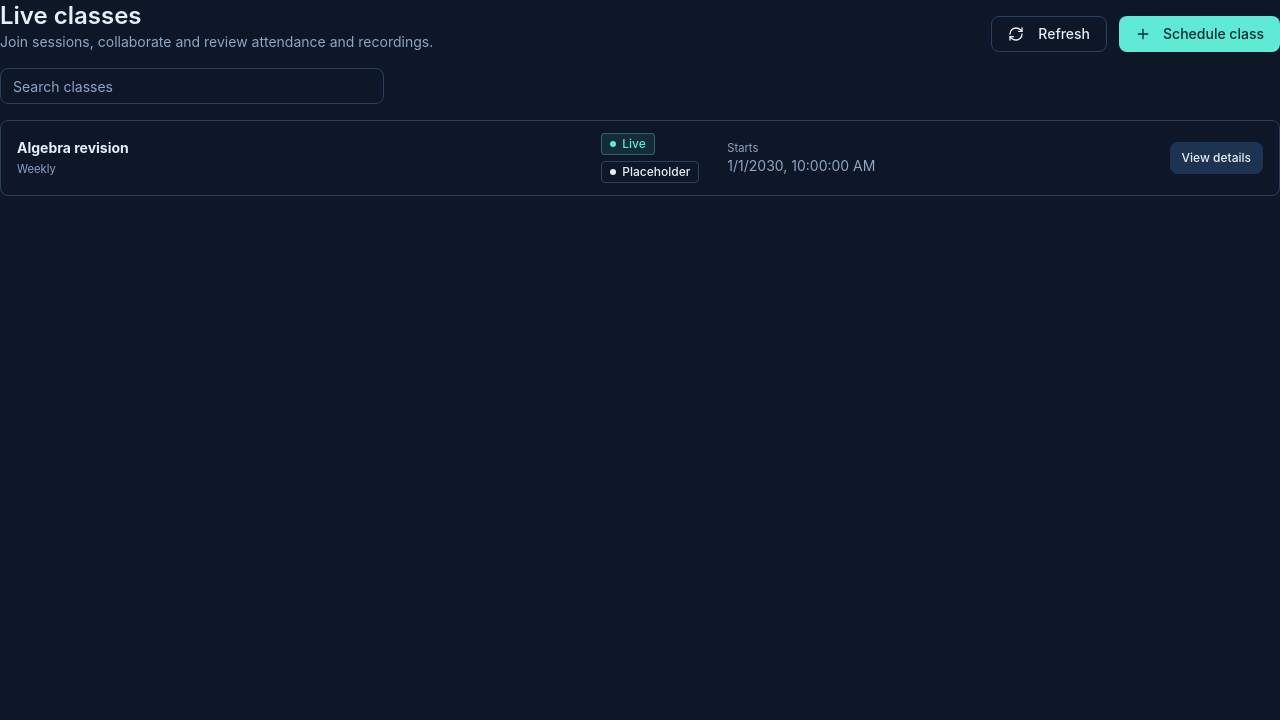
LiveClassesPage › closing a class › lets staff close a class after confirming, then shows it as ended with nothing to join
Click the button with aria-label "View details for Algebra revision" at (1216, 158), box [1170,142,1263,174]
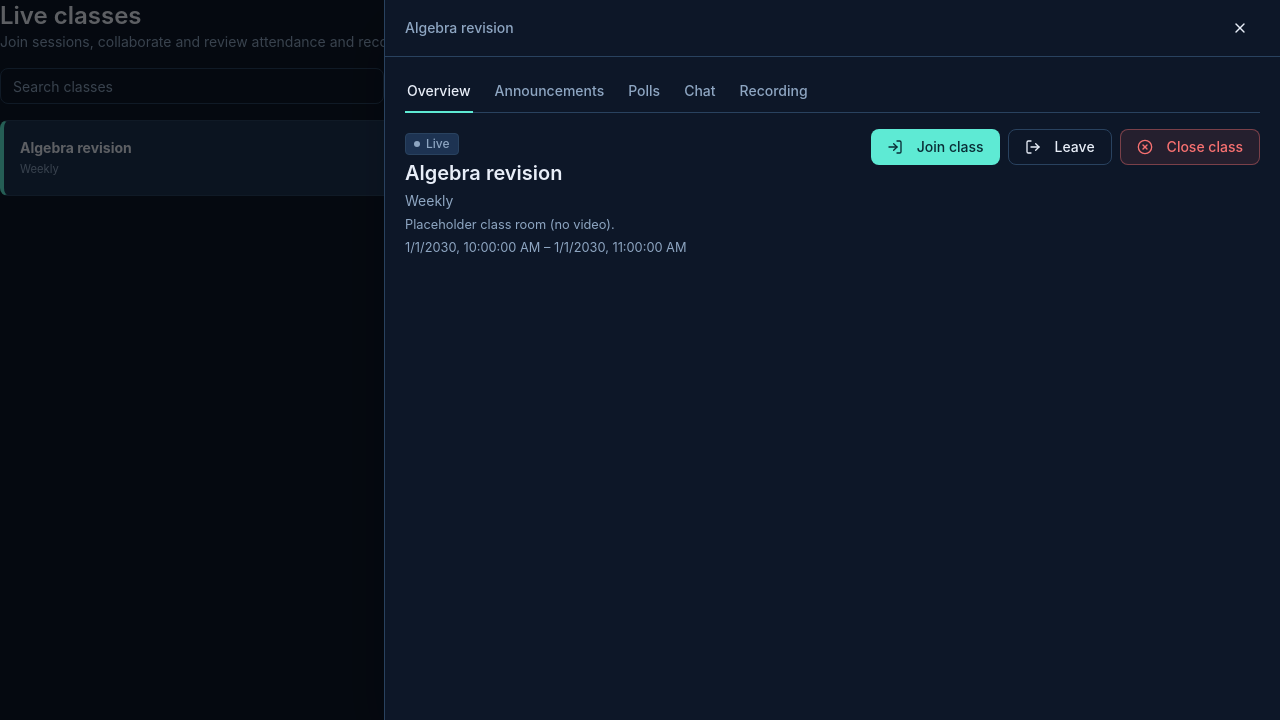
Click the button "Close class" at (1190, 147), box [1120,129,1260,165]
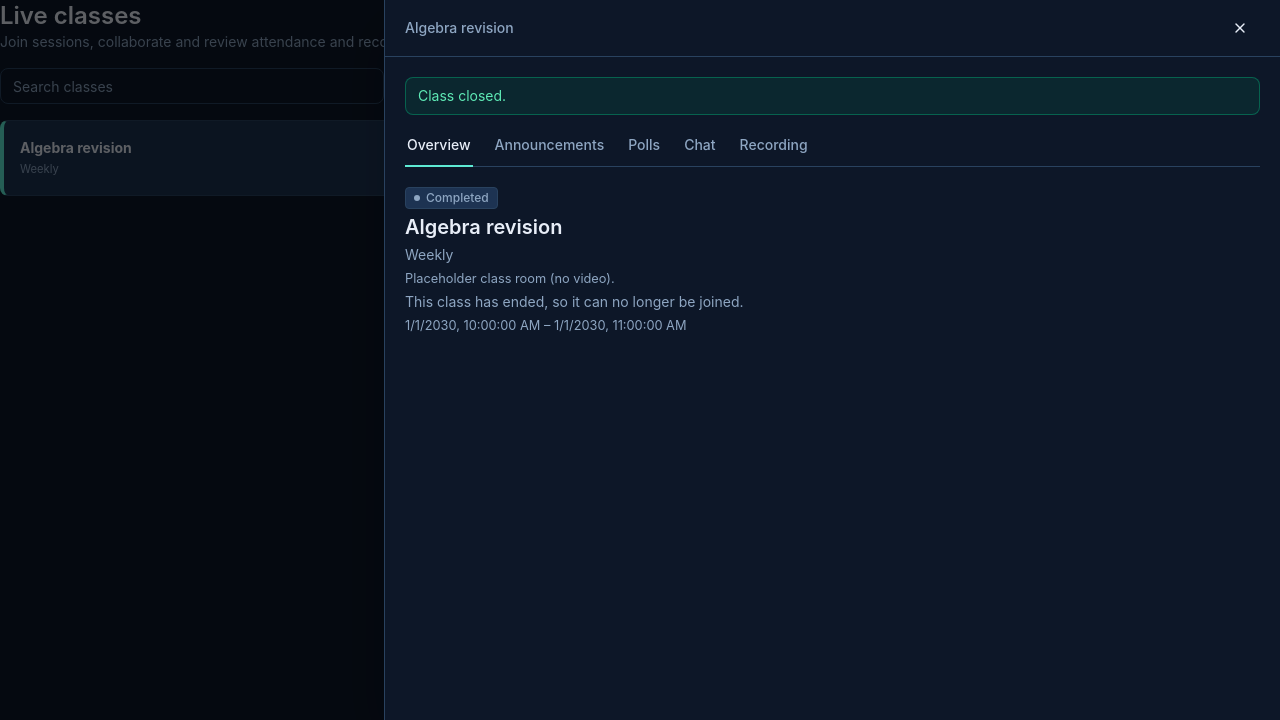
Result: the text "Class closed." is shown at [405,77,1260,115]
Result: the text "Completed" is shown at [405,187,498,209]
Result: the button "Join class" is gone
